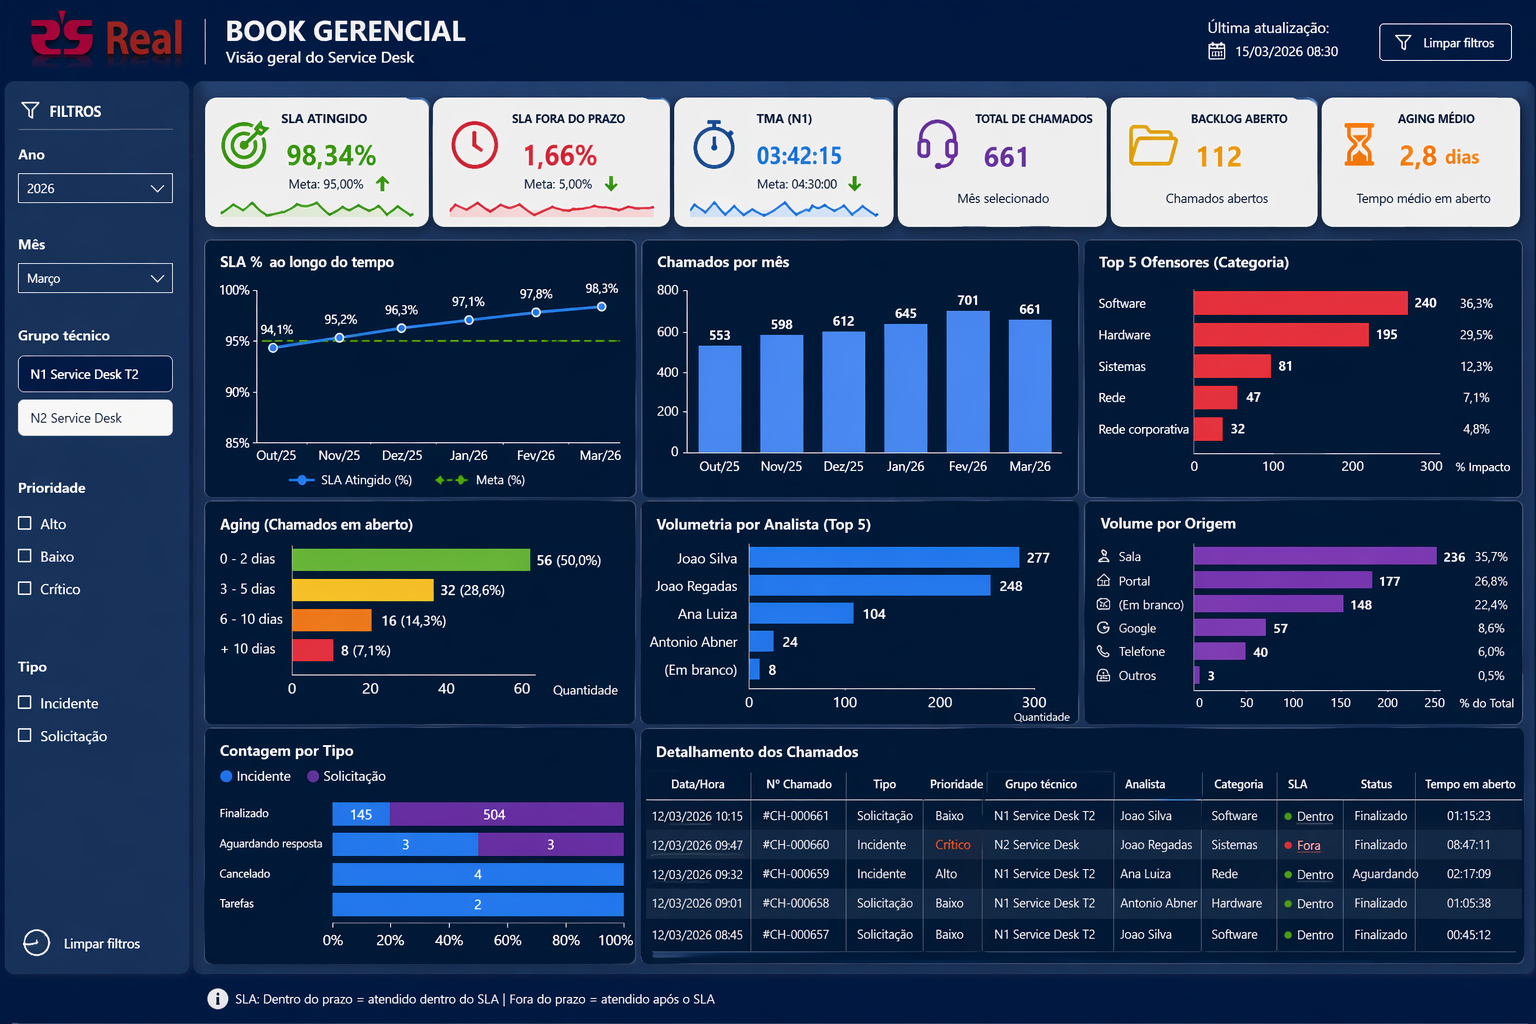

Layout of this report page (visuals, bound fields, positions):
{"tool":"powerbi","page":{"name":"Principal ","canvas":[1280,720],"ordinal":0},"visuals":[{"type":"advancedSlicerVisual","fields":{"Values":["export.Grupo técnico"]},"box":[408.6,222.9,461.4,84.3],"z":0},{"type":"tableEx","fields":{"Values":["export.idTicket","export.Ultima ação","export.Grupo técnico","export.Tipo","export.SLA"]},"box":[11.3,520.6,342.6,179],"z":1000},{"type":"advancedSlicerVisual","title":"Tipo","fields":{"Values":["export.Tipo"]},"box":[1138.4,433,141.6,189.1],"z":2000},{"type":"actionButton","box":[915.8,66.2,106.6,37.4],"z":3000},{"type":"donutChart","title":"SLA fora do tempo","fields":{"Category":["export.Sla Quebrado"],"Y":["CountNonNull(export.idTicket)"],"Series":["export.SLA"]},"box":[11.5,213.1,342.7,302.4],"z":4000},{"type":"cardVisual","title":"Totais","fields":{"Data":["CountNonNull(export.idTicket)"]},"box":[1022.4,28.8,227.5,110.9],"z":5000},{"type":"advancedSlicerVisual","fields":{"Values":["export.Prioridade"]},"box":[1138.4,223.6,141.6,195.1],"z":6000},{"type":"clusteredBarChart","title":"Volumetria por Analista","fields":{"Category":["export.Técnico"],"Y":["CountNonNull(export.Categoria)"]},"box":[353.3,306.7,363.3,218.3],"z":7000},{"type":"clusteredBarChart","title":"Ofensores","fields":{"Category":["export.Categoria"],"Y":["CountNonNull(export.Status)"]},"box":[716.7,306.7,421.7,223.3],"z":8000},{"type":"lineChart","title":"Volume por Origem","fields":{"Category":["export.Canal"],"Y":["CountNonNull(export.idTicket)"]},"box":[717.2,524.8,415.7,195.5],"z":9000},{"type":"textbox","box":[476.6,15.8,447.8,93.6],"z":10000},{"type":"actionButton","box":[1201.5,654.3,57.1,45.2],"z":11000},{"type":"advancedSlicerVisual","title":"Período","fields":{"Values":["export.Dt_cad.Variation.Hierarquia de datas.Mês"],"Label":["Min(export.Dt_cad.Variation.Hierarquia de datas.Mês)"]},"box":[283.6,94.8,710,117.9],"z":12000},{"type":"image","box":[0,0,240.8,94.7],"z":13000},{"type":"slicer","fields":{"Values":["export.Dt_cad.Variation.Hierarquia de datas.Ano1"]},"box":[24.5,112.3,243.4,83.5],"z":14000},{"type":"hundredPercentStackedBarChart","title":"Contagem por Tipo","fields":{"Category":["export.Status"],"Y":["CountNonNull(export.idTicket)"],"Series":["export.Tipo"]},"box":[353.9,524.8,362.2,195.5],"z":15000}]}

Visuals, with their boxes on the page's 1280x720 design canvas (x1, y1, x2, y2). These are canvas units, not pixel positions in the 1536x1024 screenshot, which may show the page scaled, cropped or inside an application window:
advancedSlicerVisual - export.Grupo técnico: [409,223,870,307]
tableEx - export.idTicket x export.Ultima ação: [11,521,354,700]
"Tipo" advancedSlicerVisual: [1138,433,1280,622]
actionButton: [916,66,1022,104]
"SLA fora do tempo" donutChart: [12,213,354,516]
"Totais" cardVisual: [1022,29,1250,140]
advancedSlicerVisual - export.Prioridade: [1138,224,1280,419]
"Volumetria por Analista" clusteredBarChart: [353,307,717,525]
"Ofensores" clusteredBarChart: [717,307,1138,530]
"Volume por Origem" lineChart: [717,525,1133,720]
textbox: [477,16,924,109]
actionButton: [1202,654,1259,700]
"Período" advancedSlicerVisual: [284,95,994,213]
image: [0,0,241,95]
slicer - export.Dt_cad.Variation.Hierarquia de datas.Ano1: [24,112,268,196]
"Contagem por Tipo" hundredPercentStackedBarChart: [354,525,716,720]
